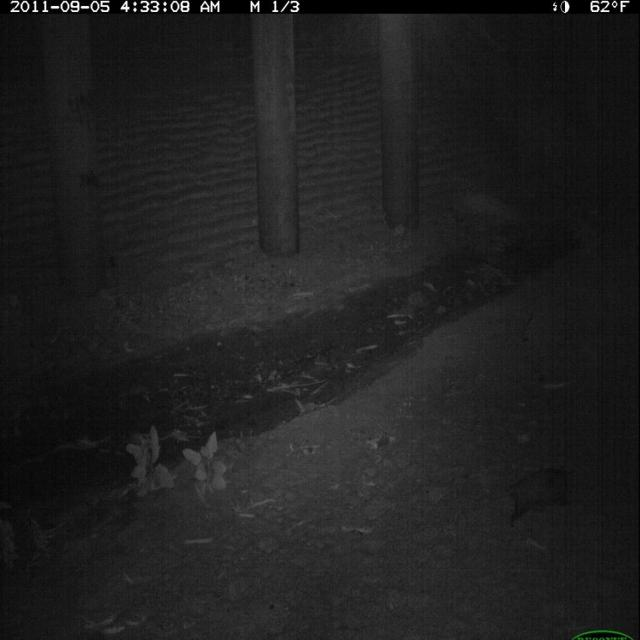opossum: (502, 459, 582, 536)
